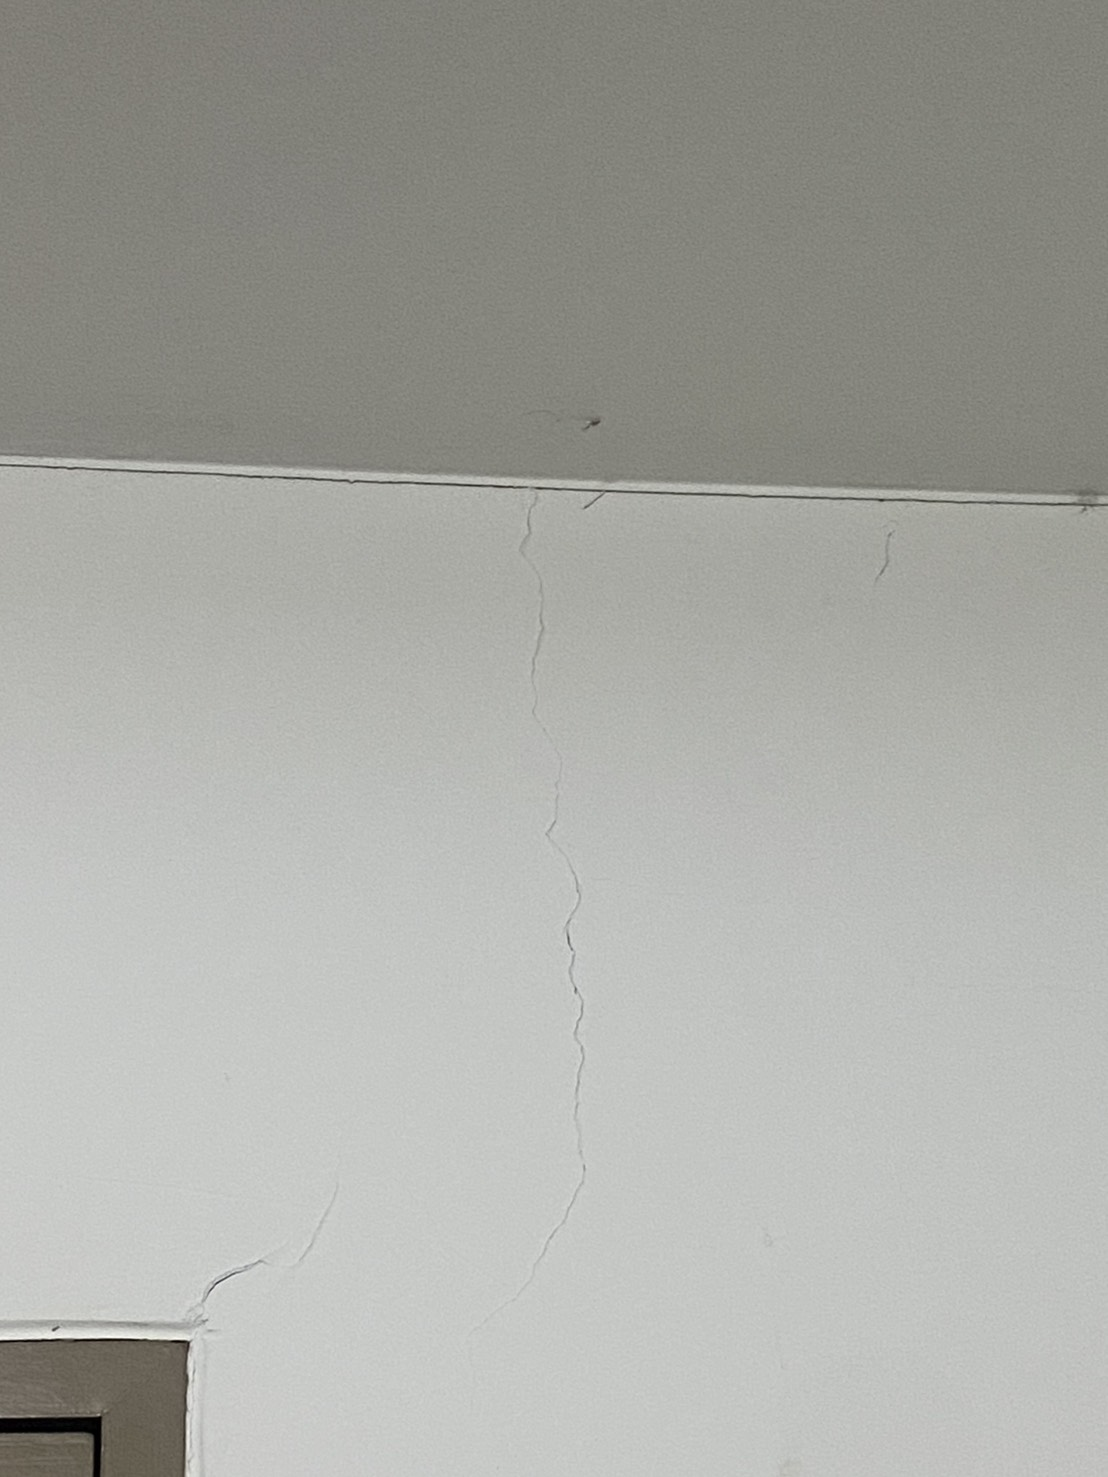Low: (191, 482, 963, 1352)
